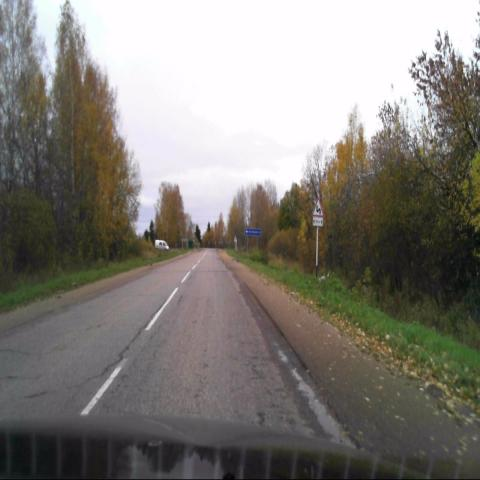1_12_2: (312, 197, 324, 217)
